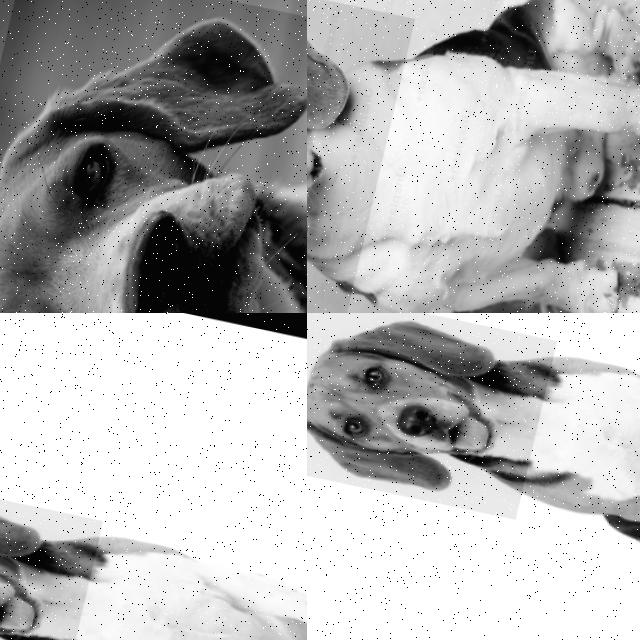beagle: (0, 0, 307, 313), (307, 313, 560, 518), (307, 0, 417, 313), (0, 463, 106, 640)
